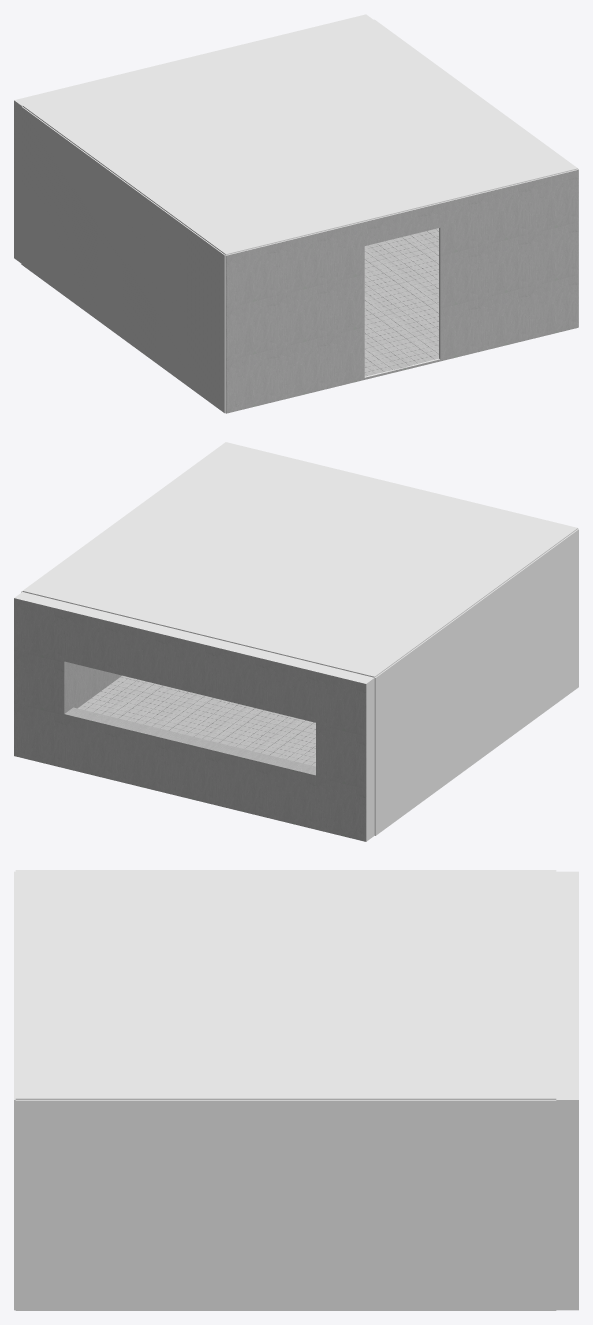
The model's file is OfficeRoom_Variant1.fbx.
3 views of the same model, one above another, from view 1: azimuth 30°, elevation 25°; view 2: azimuth 150°, elevation 25°; view 3: azimuth 270°, elevation 25° (orthographic). The views are drawn at different scales.
Visible parts, largest first — view 1: node_id16, node_id13 (×2), node_id7, node_id4, node_id43; view 2: node_id16, node_id43 (×2), node_id7, node_id4, node_id10; view 3: node_id16, node_id10, node_id43, node_id13.
Boxes of the visible parts, x1,y1,x2,y2 form: node_id16: (22,19,577,254); node_id13 (×2): (225,169,578,413); node_id7: (21,106,225,413); node_id4: (364,228,438,376); node_id43: (14,14,373,262); node_id16: (22,442,577,677); node_id43 (×2): (14,592,374,841); node_id7: (374,529,578,835); node_id4: (78,675,315,766); node_id10: (73,663,121,708); node_id16: (15,870,556,1099); node_id10: (15,1100,556,1310); node_id43: (556,871,578,1310); node_id13: (14,871,15,1310).
Size of the model in its own units: 0.512 by 0.2196 by 0.5318.
Materials: 28 (14 with a texture image).
